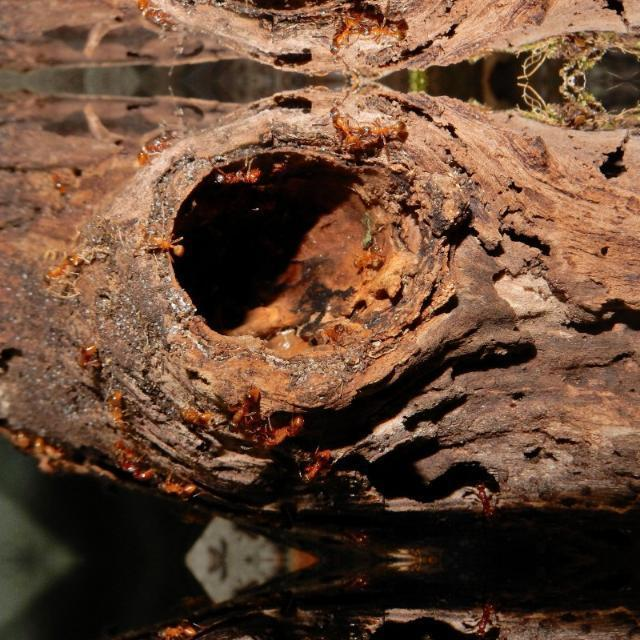Myrmica: (312, 98, 378, 152), (312, 8, 378, 62), (217, 388, 265, 438), (111, 440, 162, 480), (254, 414, 306, 452), (44, 244, 88, 288), (207, 157, 263, 191), (354, 106, 406, 142), (354, 18, 406, 54), (473, 482, 507, 530), (473, 588, 507, 636), (171, 394, 215, 428), (299, 446, 331, 490), (136, 226, 182, 256), (132, 132, 168, 168), (103, 381, 131, 427), (154, 472, 202, 496), (130, 0, 168, 28), (154, 620, 202, 640), (75, 332, 98, 373), (299, 626, 331, 640)
